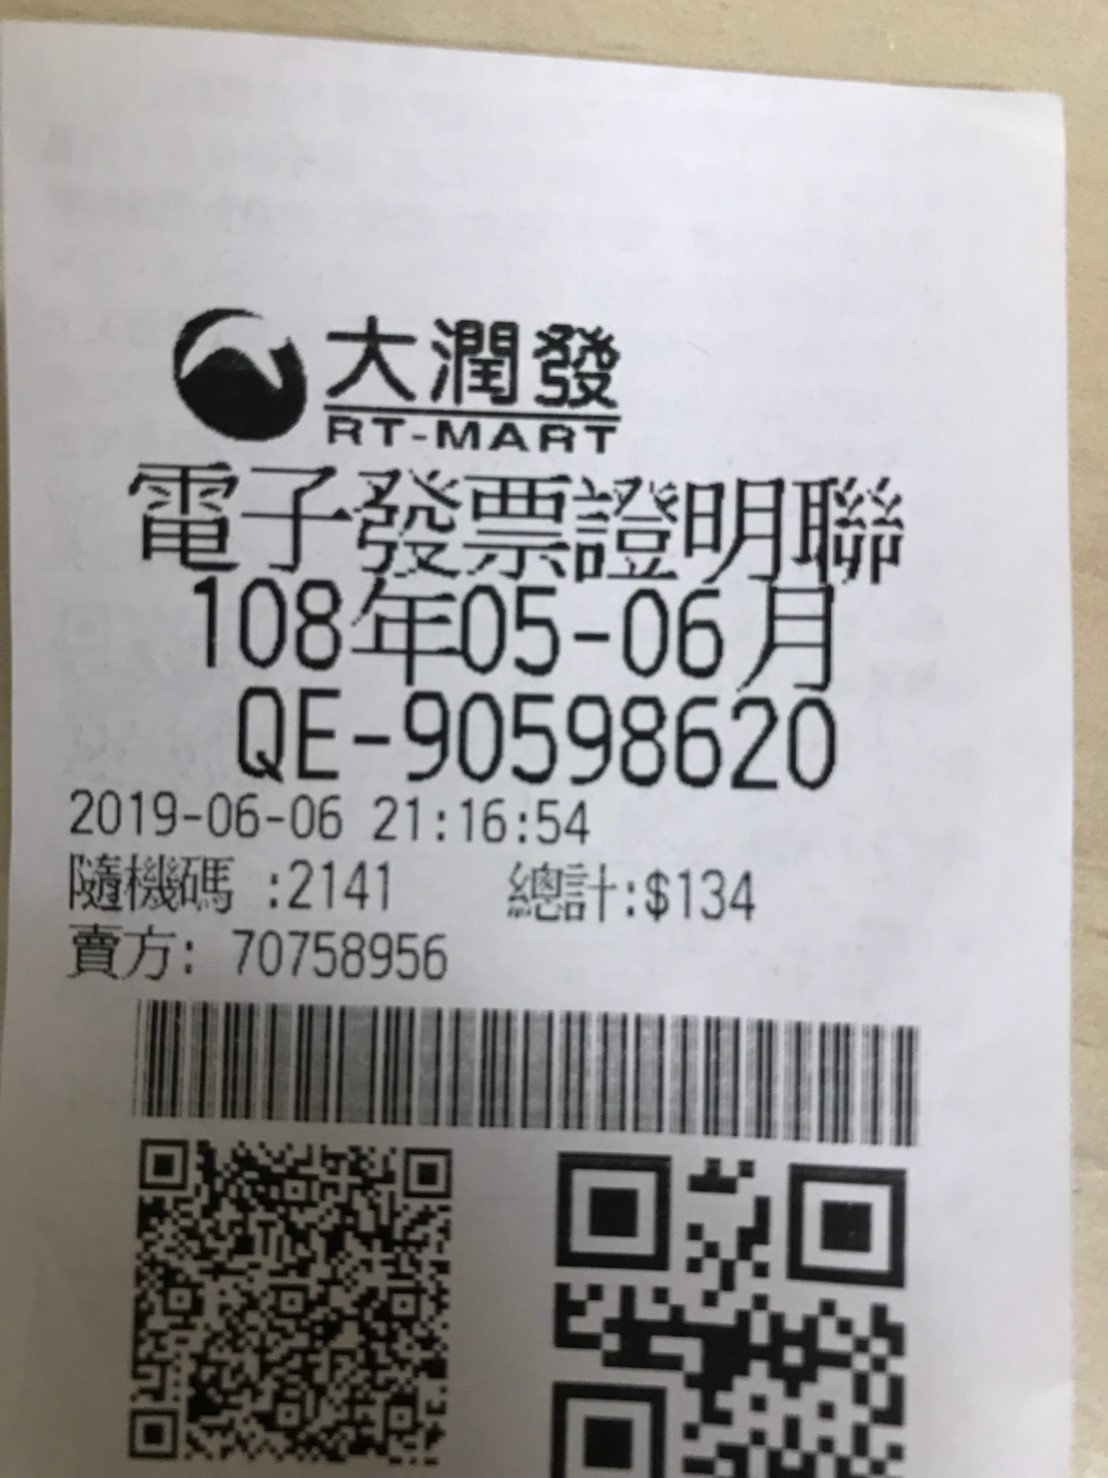Date_New: (190, 574, 841, 690)
Number_New: (400, 690, 841, 794)
